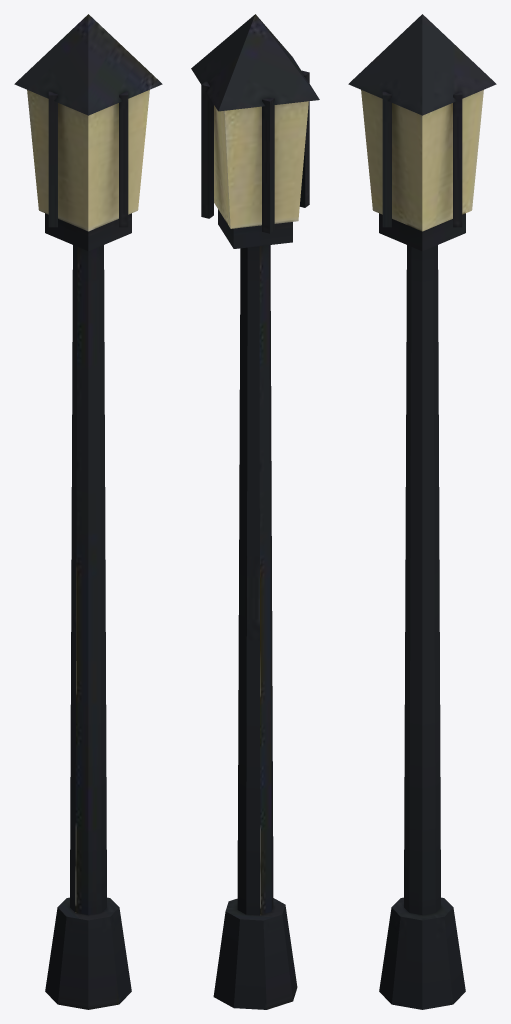
The model's file is farola_pueblo.glb.
3 renders of one model, left to right at view 1: azimuth 90°, elevation 25°; view 2: azimuth 150°, elevation 25°; view 3: azimuth 270°, elevation 25°, orthographic.
Parts seen in each view (by area): view 1: farola_pueblo; view 2: farola_pueblo; view 3: farola_pueblo.
Boxes of the visible parts, x1=… form: farola_pueblo: x1=14, y1=14, x2=162, y2=1009; farola_pueblo: x1=191, y1=14, x2=319, y2=1009; farola_pueblo: x1=348, y1=14, x2=496, y2=1009.
Size of the model in its own units: 0.48 by 3.48 by 0.48.
1 material, 1 textured.
